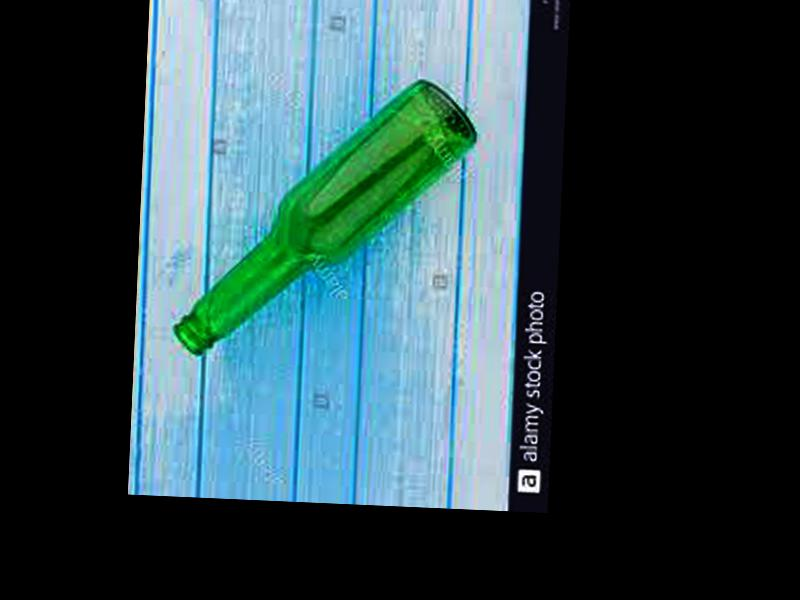Beer: (171, 66, 483, 370)
